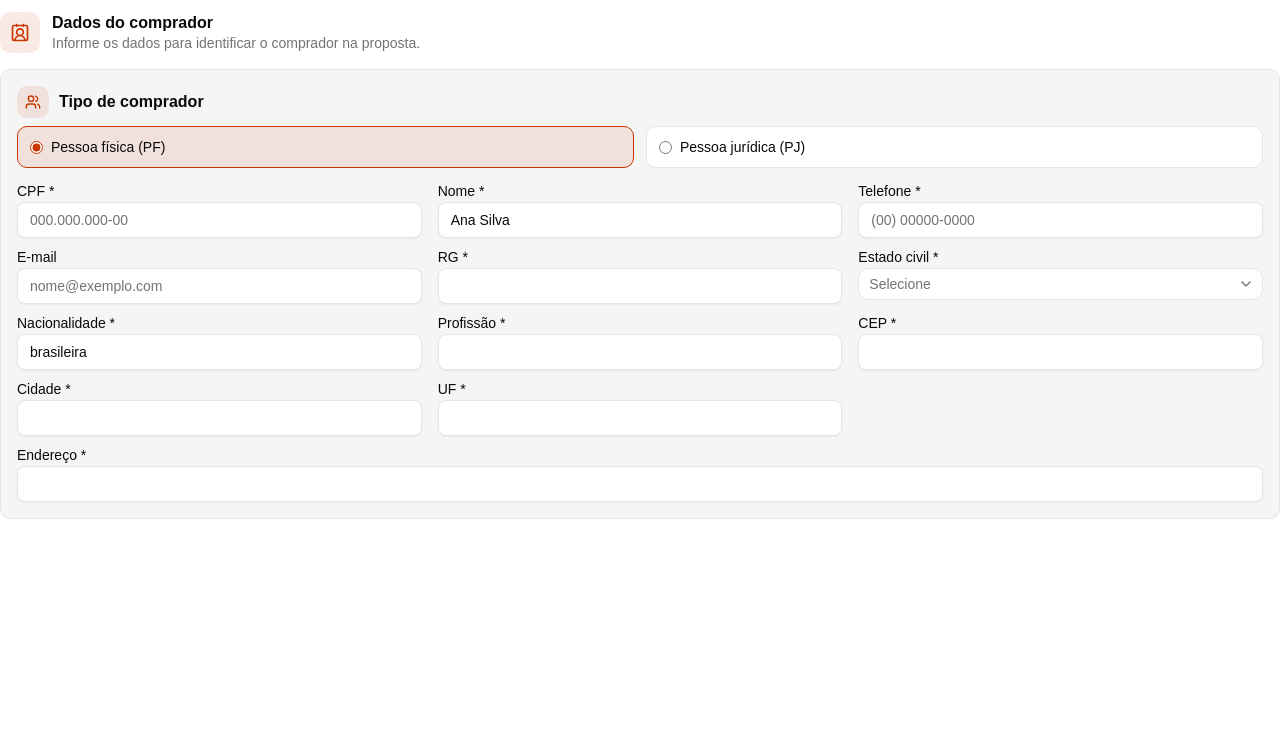
ProposalPartyFields › masks and validates CPF, and switches the same field to CNPJ
The width and height of the screenshot is (1280, 732).
Type "52998224725" into the field labelled "CPF". click: [219, 220]
box: left=17, top=202, right=422, bottom=238
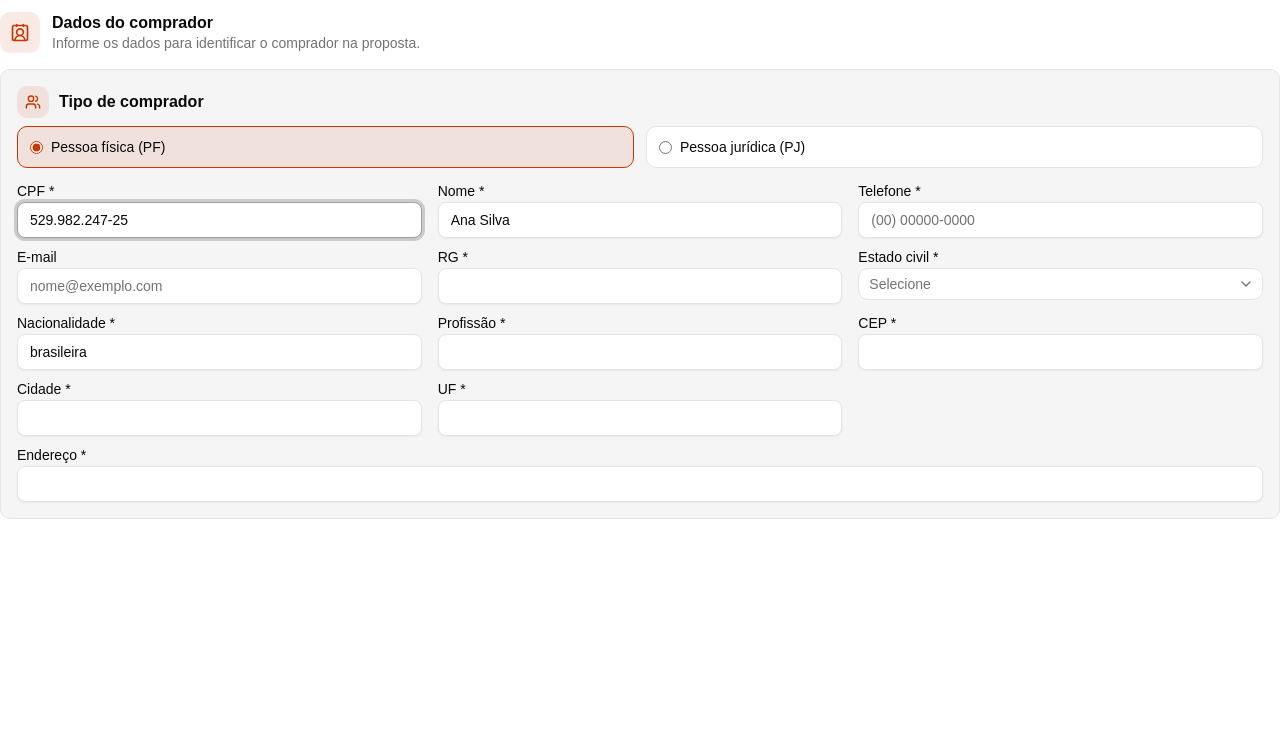
Check: the text "CPF inválido." is not shown
Check: the field labelled "CPF" holds "529.982.247-25"
Replace the text in the field labelled "CPF" with "11111111111". click: [219, 220]
box: left=17, top=202, right=422, bottom=238
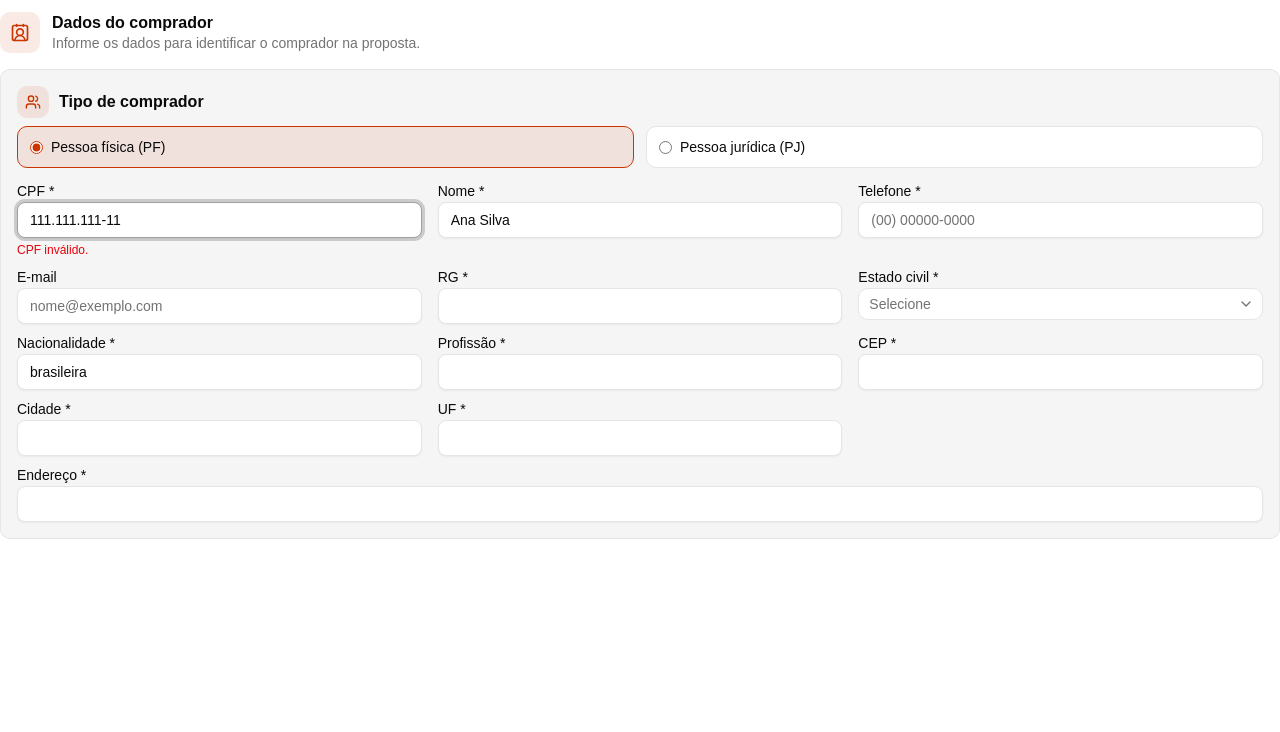
Check: the field labelled "CPF" holds "111.111.111-11", box left=17, top=202, right=422, bottom=238
Check: the text "CPF inválido." is shown, box left=17, top=243, right=88, bottom=257
Click the radio button labelled "Pessoa jurídica (PJ)". click: [666, 147]
box: left=659, top=141, right=672, bottom=154
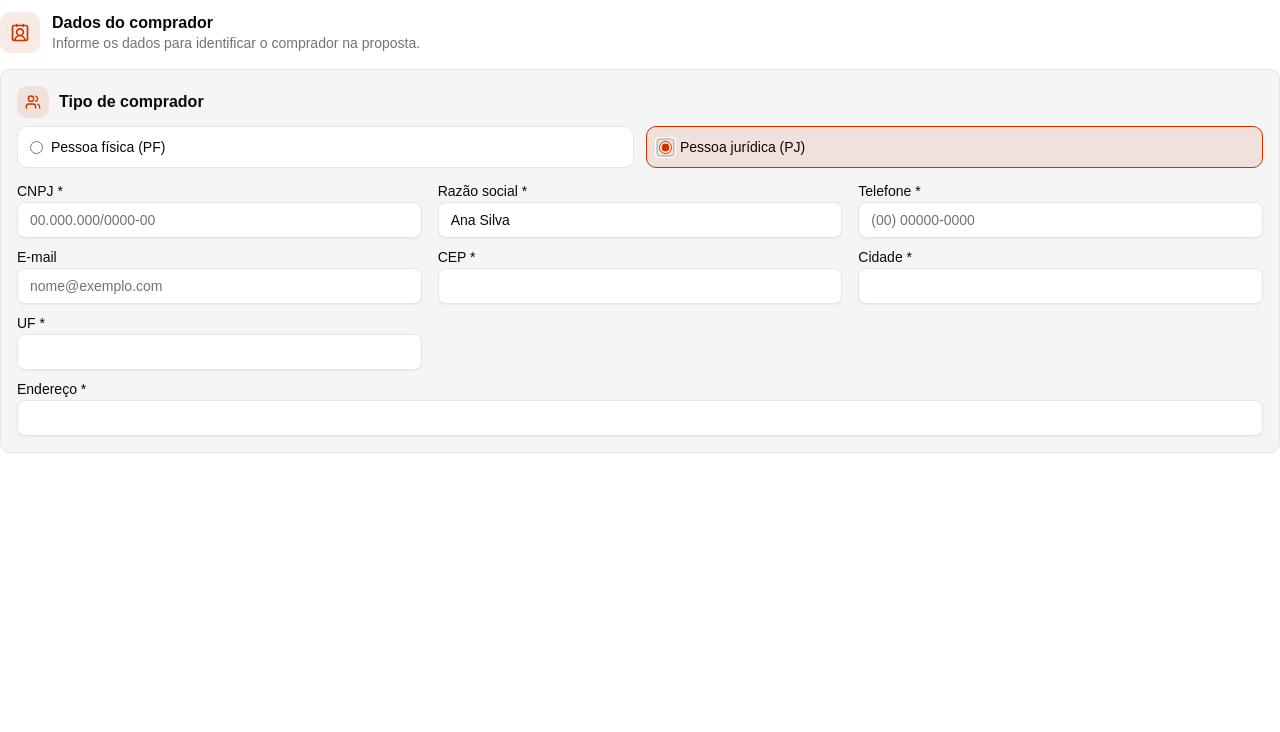
Check: the label labelled "RG" is gone
Check: the label labelled "Estado civil" is gone
Check: the text "CPF inválido." is gone
Type "11222333000180" into the field labelled "CNPJ". click: [219, 220]
box: left=17, top=202, right=422, bottom=238
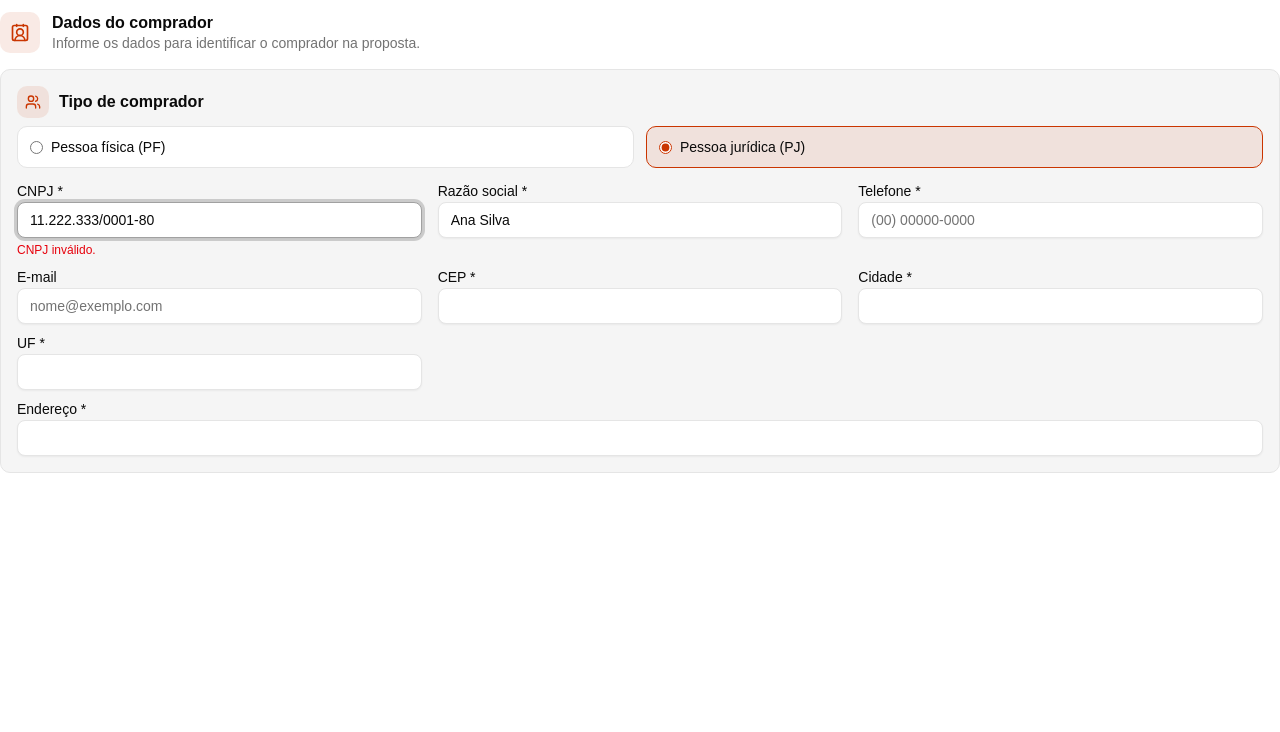
Check: the field labelled "CNPJ" holds "11.222.333/0001-80"
Check: the text "CNPJ inválido." is shown, box left=17, top=243, right=96, bottom=257
Replace the text in the field labelled "CNPJ" with "11444777000161". click: [219, 220]
box: left=17, top=202, right=422, bottom=238
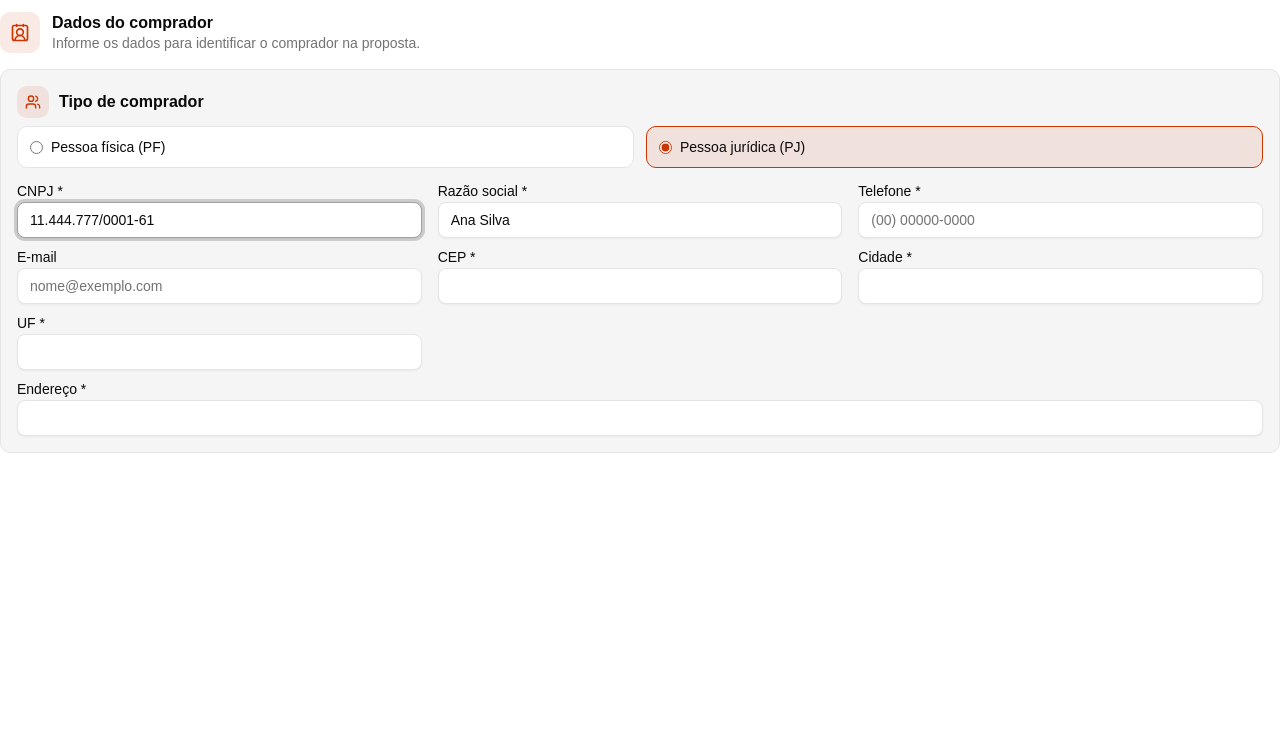
Check: the text "CNPJ inválido." is not shown
Check: the field labelled "CNPJ" holds "11.444.777/0001-61", box left=17, top=202, right=422, bottom=238
